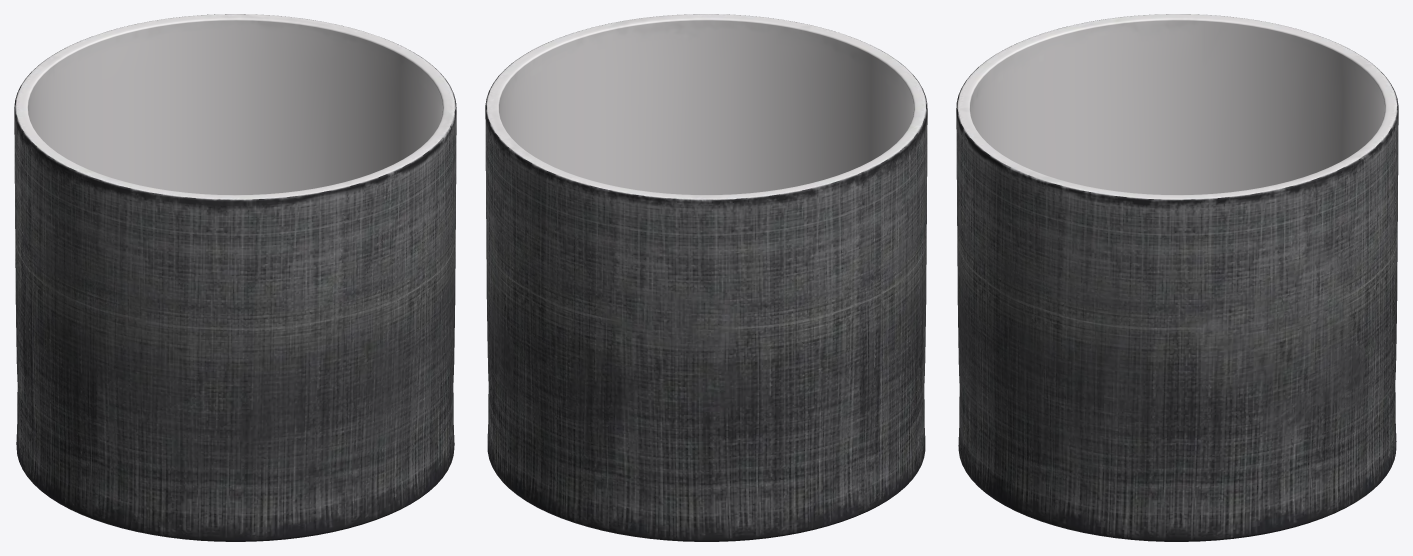
The model's file is abo-B07QC6VKWB.glb.
The picture shows the model from 3 angles, left to right: view 1: azimuth 30°, elevation 25°; view 2: azimuth 150°, elevation 25°; view 3: azimuth 270°, elevation 25°; orthographic projection.
Bounding box in the file's own units: 0.254 × 0.221 × 0.254.
Materials: 1 (1 with a texture image).
